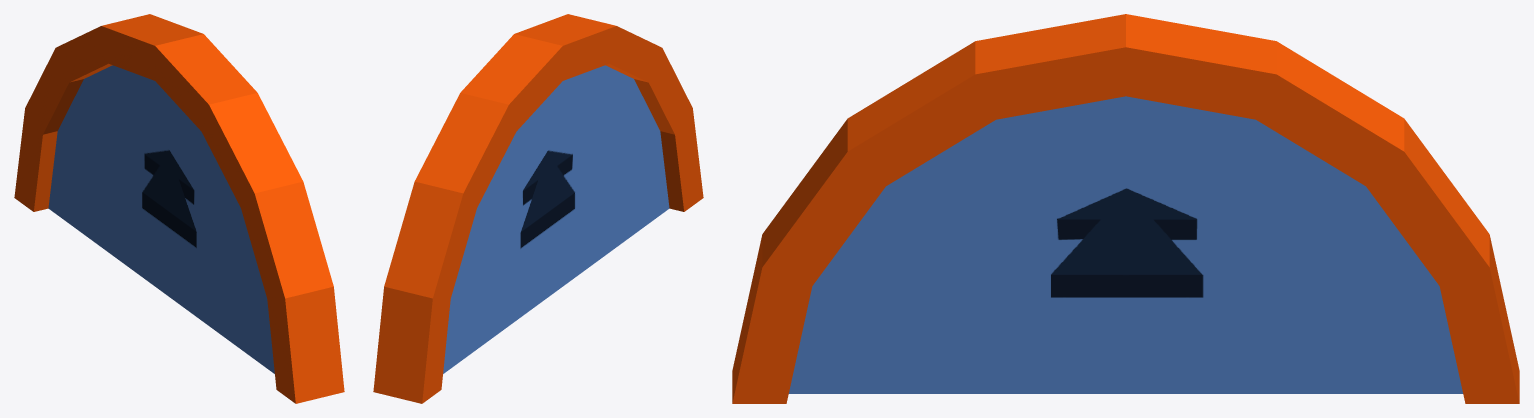
3 renders of one model, left to right at view 1: azimuth 30°, elevation 25°; view 2: azimuth 150°, elevation 25°; view 3: azimuth 270°, elevation 25°, orthographic. The views are drawn at different scales.
Visible parts, largest first — view 1: Cylinder, Cylinder.001; view 2: Cylinder, Cylinder.001; view 3: Cylinder.001, Cylinder.
Part boxes in pixels (x1,y1,x2,y2): Cylinder: (14, 14, 344, 403); Cylinder.001: (48, 65, 274, 373); Cylinder: (373, 14, 703, 403); Cylinder.001: (443, 65, 669, 373); Cylinder.001: (788, 96, 1463, 393); Cylinder: (732, 14, 1519, 403).
Size of the model in its own units: 20 by 100 by 200.
Materials: 1 (1 with a texture image).
